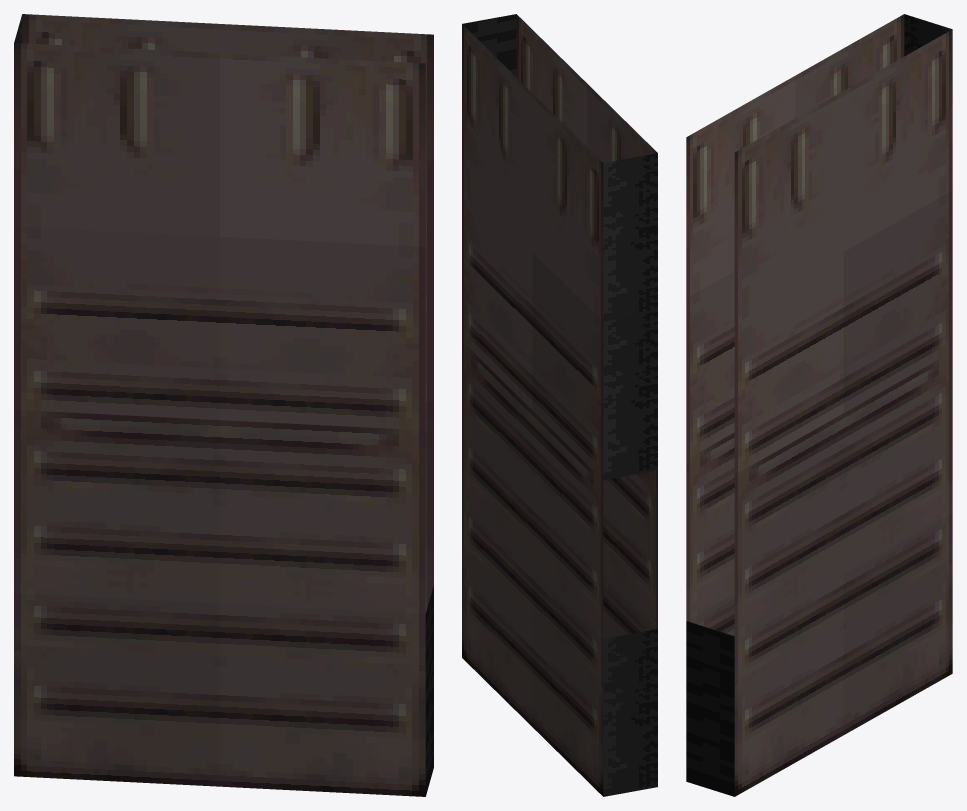
The model's file is dam_brown_sliding_door.glb.
The picture shows the model from 3 angles, left to right: view 1: azimuth 30°, elevation 25°; view 2: azimuth 150°, elevation 25°; view 3: azimuth 270°, elevation 25°; orthographic projection. The views are drawn at different scales.
Parts seen in each view (by area): view 1: Object; view 2: Object; view 3: Object.
Part boxes in pixels (x1,y1,x2,y2): Object: (14,14,433,796); Object: (462,14,657,796); Object: (686,14,952,796).
Bounding box in the file's own units: 1.12 × 2.42 × 0.9067.
16 materials, 16 textured.
